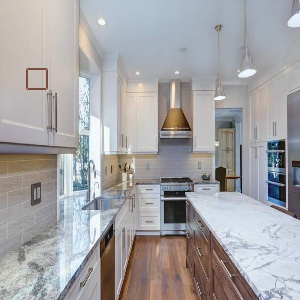square: (24, 66, 51, 92)
